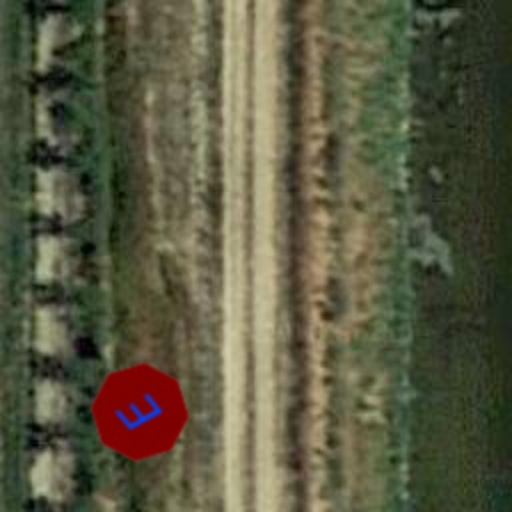octagon: (68, 340, 212, 484)
